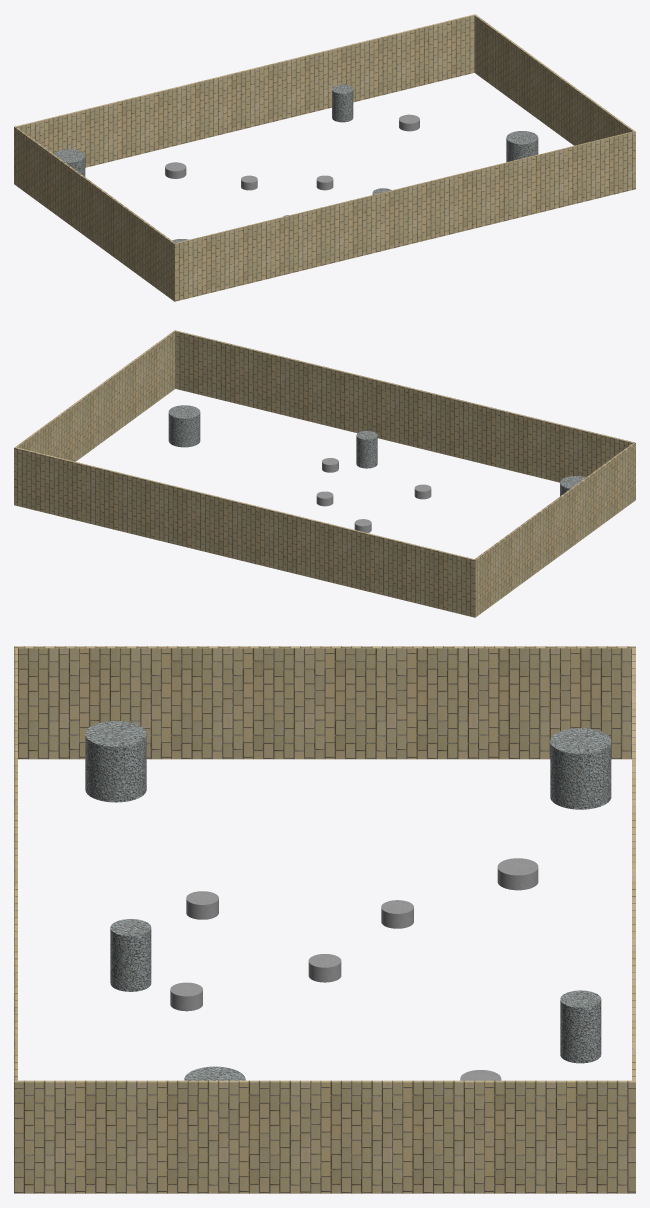
File: envC.dae
The picture shows the model from 3 angles, top to bottom: view 1: azimuth 30°, elevation 25°; view 2: azimuth 150°, elevation 25°; view 3: azimuth 270°, elevation 25°; orthographic projection. The views are drawn at different scales.
Parts seen in each view (by area): view 1: stitch_result_stitchFBXASC032all_ncl1_1, stitch_result_stitchFBXASC032all_ncl1_11, stitch_result_stitchFBXASC032all_ncl1_3, stitch_result_stitchFBXASC032all; view 2: stitch_result_stitchFBXASC032all_ncl1_1, stitch_result_stitchFBXASC032all_ncl1_11, stitch_result_stitchFBXASC032all_ncl1_9; view 3: stitch_result_stitchFBXASC032all_ncl1_1, stitch_result_stitchFBXASC032all, stitch_result_stitchFBXASC032all_ncl1_7, stitch_result_stitchFBXASC032all_ncl1_3, stitch_result_stitchFBXASC032all_ncl1_9, stitch_result_stitchFBXASC032all_ncl1_4, stitch_result_stitchFBXASC032all_ncl1_6, stitch_result_stitchFBXASC032all_ncl1_5, stitch_result_stitchFBXASC032all_ncl1_10, stitch_result_stitchFBXASC032all_ncl1_8.
Part boxes in pixels (<box>): stitch_result_stitchFBXASC032all_ncl1_1: <box>14,14,635,301</box>; stitch_result_stitchFBXASC032all_ncl1_11: <box>506,131,538,162</box>; stitch_result_stitchFBXASC032all_ncl1_3: <box>332,84,353,122</box>; stitch_result_stitchFBXASC032all: <box>54,149,85,176</box>; stitch_result_stitchFBXASC032all_ncl1_1: <box>14,330,635,617</box>; stitch_result_stitchFBXASC032all_ncl1_11: <box>168,405,200,447</box>; stitch_result_stitchFBXASC032all_ncl1_9: <box>356,431,377,468</box>; stitch_result_stitchFBXASC032all_ncl1_1: <box>14,646,635,1193</box>; stitch_result_stitchFBXASC032all: <box>550,728,611,809</box>; stitch_result_stitchFBXASC032all_ncl1_7: <box>85,721,146,802</box>; stitch_result_stitchFBXASC032all_ncl1_3: <box>560,990,601,1063</box>; stitch_result_stitchFBXASC032all_ncl1_9: <box>110,919,151,991</box>; stitch_result_stitchFBXASC032all_ncl1_4: <box>497,858,538,890</box>; stitch_result_stitchFBXASC032all_ncl1_6: <box>308,954,341,982</box>; stitch_result_stitchFBXASC032all_ncl1_5: <box>381,900,413,928</box>; stitch_result_stitchFBXASC032all_ncl1_10: <box>170,982,202,1011</box>; stitch_result_stitchFBXASC032all_ncl1_8: <box>186,891,218,919</box>.
Size of the model in its own units: 126 by 76 by 15.
Materials: 3 (3 with a texture image).
